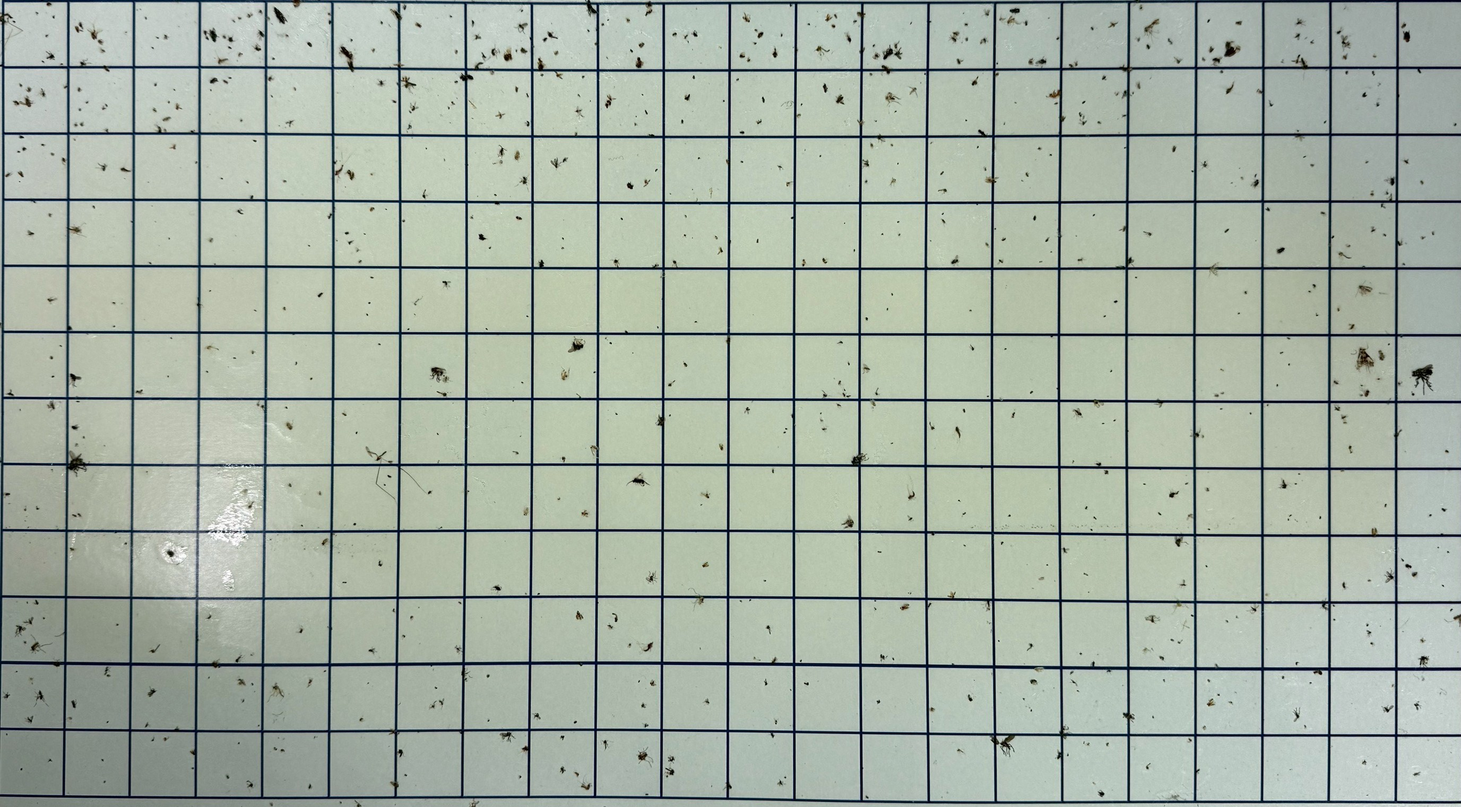fly: (1412, 363, 1436, 388), (66, 450, 88, 474)
test: (990, 731, 1018, 758), (1355, 346, 1376, 373), (1224, 40, 1242, 59), (272, 5, 288, 26), (569, 338, 587, 356), (882, 91, 901, 108), (636, 749, 653, 767), (338, 43, 354, 61), (1173, 533, 1190, 549), (1146, 18, 1160, 37), (367, 451, 389, 463), (1357, 283, 1373, 299), (269, 682, 286, 697), (331, 162, 346, 178), (852, 452, 868, 467), (1382, 569, 1397, 585), (29, 641, 47, 654), (640, 640, 656, 654), (70, 371, 82, 389), (630, 476, 649, 487), (584, 2, 597, 18), (1224, 81, 1236, 98), (578, 778, 592, 792), (1207, 262, 1221, 276), (88, 24, 100, 40), (588, 442, 600, 458), (1071, 405, 1083, 421), (1144, 613, 1160, 625), (67, 224, 84, 235), (431, 365, 442, 382), (1339, 35, 1350, 52), (401, 76, 415, 89), (500, 730, 514, 743), (604, 94, 617, 108), (1045, 90, 1063, 100), (1294, 131, 1306, 146), (208, 26, 219, 42), (458, 72, 474, 83), (841, 516, 854, 529), (391, 6, 403, 20), (35, 690, 47, 704), (646, 570, 658, 584), (654, 414, 666, 428), (1118, 64, 1133, 75), (204, 342, 220, 352), (1337, 250, 1353, 260), (22, 95, 34, 108), (560, 369, 572, 382), (546, 28, 558, 41), (695, 594, 706, 608), (1060, 723, 1069, 740), (47, 396, 57, 411), (984, 175, 999, 185), (1122, 711, 1137, 721), (1292, 709, 1302, 724), (1248, 602, 1260, 614), (906, 488, 917, 501), (503, 49, 513, 63), (514, 22, 528, 32), (900, 603, 914, 613), (1191, 430, 1205, 440), (1402, 31, 1412, 45), (814, 45, 829, 54), (96, 162, 107, 174), (211, 659, 222, 671), (664, 765, 676, 776), (548, 158, 560, 169), (907, 86, 918, 98), (875, 133, 887, 144), (976, 127, 987, 139), (1168, 489, 1179, 501), (1206, 697, 1218, 708), (1318, 599, 1330, 610), (573, 107, 583, 120), (460, 667, 469, 681), (498, 147, 507, 161), (519, 43, 528, 57), (1394, 427, 1403, 441), (427, 699, 438, 710), (979, 36, 990, 47), (147, 684, 155, 699), (245, 778, 255, 790), (388, 779, 400, 789), (1279, 477, 1289, 489), (602, 739, 611, 752), (1381, 704, 1394, 713), (38, 87, 46, 101), (538, 56, 546, 70), (884, 45, 892, 59), (151, 645, 161, 656), (552, 70, 563, 80), (894, 50, 905, 60), (1120, 89, 1130, 100), (1092, 397, 1102, 408), (1412, 768, 1423, 778), (120, 167, 132, 176), (24, 616, 36, 625), (532, 712, 544, 721), (665, 754, 677, 763), (1251, 177, 1260, 189), (348, 165, 355, 180), (216, 57, 229, 65), (17, 624, 25, 637), (945, 591, 958, 599), (257, 28, 267, 38), (574, 609, 584, 619), (776, 777, 786, 787), (881, 64, 891, 74), (948, 34, 958, 44), (1312, 667, 1322, 677), (43, 51, 54, 60), (410, 102, 419, 113), (320, 538, 331, 547), (724, 779, 733, 790), (971, 75, 980, 86), (1386, 175, 1395, 186), (1292, 53, 1301, 64), (435, 390, 449, 397), (985, 598, 992, 612), (771, 48, 779, 60), (1027, 641, 1035, 653), (1009, 7, 1021, 15), (1140, 647, 1152, 655), (1452, 614, 1460, 626), (1378, 349, 1386, 361), (523, 505, 530, 518), (286, 118, 296, 127), (376, 558, 385, 568), (306, 677, 315, 687), (387, 726, 396, 736), (520, 746, 530, 755), (835, 96, 845, 105), (412, 296, 421, 306), (857, 46, 866, 56), (237, 678, 248, 686), (492, 584, 503, 592), (520, 175, 528, 186), (670, 258, 678, 269), (496, 110, 507, 118), (635, 57, 643, 68), (862, 363, 870, 374), (966, 693, 974, 704), (1031, 676, 1039, 687), (1007, 17, 1018, 25), (1201, 160, 1209, 171), (1126, 257, 1134, 268), (1275, 246, 1286, 254), (1174, 599, 1185, 607), (1403, 562, 1414, 570), (1394, 238, 1405, 246), (156, 123, 163, 135), (348, 61, 355, 73), (105, 667, 112, 679), (397, 747, 404, 759), (5, 171, 14, 180), (266, 74, 275, 83), (27, 716, 36, 725), (667, 379, 676, 388), (643, 177, 652, 186), (820, 84, 829, 93), (824, 14, 833, 23), (868, 399, 877, 408), (950, 257, 959, 266), (1026, 57, 1035, 66), (1340, 582, 1349, 591), (1362, 389, 1371, 398), (2, 691, 10, 701), (580, 509, 588, 519), (927, 421, 935, 431), (1036, 57, 1046, 65), (1173, 57, 1183, 65), (1156, 399, 1164, 409), (752, 655, 762, 663), (46, 296, 57, 303), (421, 188, 428, 199), (514, 150, 521, 161), (718, 244, 725, 255), (1213, 57, 1224, 64), (1267, 98, 1274, 109), (1055, 748, 1062, 759), (1294, 18, 1305, 25), (957, 424, 962, 439), (18, 171, 26, 180), (253, 43, 262, 51), (245, 11, 254, 19), (210, 76, 219, 84), (3, 490, 12, 498), (165, 550, 174, 558), (235, 654, 243, 663), (437, 698, 446, 706), (442, 280, 450, 289), (477, 234, 486, 242), (626, 180, 634, 189), (742, 13, 751, 21), (757, 31, 766, 39), (926, 601, 934, 610), (982, 9, 991, 17), (1141, 232, 1153, 238), (1186, 512, 1195, 520), (1178, 581, 1187, 589), (1410, 570, 1419, 578), (1369, 226, 1378, 234), (1360, 91, 1368, 100), (354, 799, 363, 807), (1300, 58, 1308, 67), (51, 660, 61, 667), (224, 773, 234, 780), (472, 62, 482, 69), (1421, 656, 1428, 666), (958, 747, 964, 758), (236, 208, 244, 216), (228, 35, 236, 43), (340, 410, 348, 418), (377, 78, 385, 86), (537, 259, 545, 267), (856, 119, 864, 127), (1035, 666, 1043, 674), (575, 392, 583, 400), (170, 143, 179, 150), (250, 194, 257, 203), (71, 423, 78, 432), (173, 727, 182, 734), (454, 646, 463, 653), (604, 623, 613, 630), (704, 697, 711, 706), (770, 731, 777, 740), (701, 492, 710, 499), (725, 334, 732, 343), (739, 128, 746, 137), (513, 84, 520, 93), (938, 188, 947, 195), (999, 16, 1008, 23), (1103, 468, 1110, 477), (1159, 654, 1166, 663), (162, 116, 172, 122), (196, 298, 202, 308), (203, 29, 208, 41), (613, 612, 619, 622), (766, 625, 771, 637), (612, 259, 622, 265), (473, 33, 483, 39), (846, 34, 852, 44), (1044, 234, 1050, 244), (1414, 700, 1420, 710), (1347, 444, 1353, 454), (174, 103, 182, 110), (286, 422, 293, 430), (247, 501, 254, 509), (205, 613, 212, 621), (368, 648, 376, 655), (642, 722, 650, 729), (490, 48, 498, 55), (682, 94, 690, 101), (857, 11, 865, 18), (872, 52, 880, 59), (952, 30, 959, 38), (1207, 46, 1215, 53), (1170, 146, 1177, 154), (1095, 460, 1103, 467), (1061, 546, 1068, 554), (1069, 679, 1077, 686), (1371, 528, 1378, 536), (1404, 158, 1411, 166), (1341, 54, 1349, 61), (1400, 21, 1407, 29), (406, 123, 413, 131), (893, 41, 901, 48), (646, 133, 657, 138), (298, 627, 304, 636), (34, 599, 40, 608), (786, 179, 792, 188), (1388, 193, 1394, 202), (71, 699, 76, 709), (1068, 61, 1073, 71), (1234, 20, 1244, 25), (74, 26, 81, 33), (46, 210, 53, 217), (386, 473, 393, 480), (771, 656, 778, 663), (562, 156, 569, 163), (639, 41, 646, 48), (745, 406, 752, 413), (845, 393, 852, 400), (1223, 227, 1230, 234), (1091, 662, 1098, 669), (1349, 324, 1356, 331), (1321, 119, 1328, 126), (221, 34, 228, 41), (78, 21, 84, 29), (99, 47, 107, 53), (102, 66, 110, 72), (101, 104, 109, 110), (72, 122, 78, 130), (61, 156, 67, 164), (27, 231, 35, 237), (258, 8, 264, 16), (136, 389, 144, 395), (444, 375, 450, 383), (391, 98, 397, 106), (359, 715, 365, 723), (561, 766, 567, 774), (572, 770, 580, 776), (640, 702, 646, 710), (650, 680, 656, 688), (803, 679, 809, 687), (720, 443, 726, 451), (540, 36, 548, 42), (760, 94, 766, 102), (875, 387, 881, 395), (1108, 22, 1116, 28), (1079, 120, 1087, 126), (1257, 88, 1263, 96), (1120, 226, 1128, 232), (1068, 668, 1076, 674), (1195, 767, 1201, 775), (1335, 403, 1341, 411), (1332, 381, 1340, 387), (67, 324, 73, 332), (161, 737, 170, 742), (511, 451, 520, 456), (644, 11, 653, 16), (1136, 81, 1141, 90), (1145, 764, 1154, 769), (802, 257, 806, 268), (14, 100, 20, 107), (35, 9, 41, 16), (76, 86, 82, 93), (50, 151, 57, 157), (222, 78, 228, 85), (237, 50, 244, 56), (237, 14, 243, 21), (50, 355, 56, 362), (318, 291, 324, 298), (327, 212, 333, 219), (143, 721, 150, 727), (703, 562, 709, 569), (551, 49, 558, 55), (572, 719, 579, 725), (833, 12, 839, 19), (679, 118, 685, 125), (1023, 20, 1029, 27), (1024, 172, 1030, 179), (1090, 25, 1096, 32), (1311, 283, 1318, 289), (1366, 629, 1372, 636), (1371, 641, 1377, 648), (1227, 699, 1233, 706), (1336, 306, 1342, 313), (1378, 202, 1385, 208), (1295, 33, 1302, 39), (1371, 70, 1378, 76), (869, 142, 875, 149), (281, 177, 288, 183), (494, 200, 501, 206), (573, 131, 580, 137), (779, 31, 785, 38), (437, 525, 444, 531), (255, 722, 262, 728), (269, 800, 275, 807), (1213, 662, 1219, 669), (1400, 556, 1406, 563), (1396, 381, 1403, 387), (795, 112, 802, 118), (62, 83, 67, 91), (80, 61, 90, 65), (163, 33, 168, 41), (209, 236, 214, 244), (7, 391, 15, 396), (560, 733, 565, 741), (515, 216, 523, 221), (652, 263, 660, 268), (822, 257, 827, 265), (837, 340, 845, 345), (930, 706, 935, 714), (957, 58, 962, 66), (1169, 37, 1173, 47), (1105, 668, 1113, 673), (1099, 789, 1104, 797), (1442, 506, 1447, 514), (1340, 414, 1348, 419), (1371, 54, 1379, 59), (1081, 572, 1089, 577), (644, 108, 649, 116), (190, 129, 196, 135), (69, 545, 75, 551), (416, 22, 422, 28), (455, 47, 459, 56), (356, 247, 362, 253), (287, 482, 293, 488), (307, 782, 313, 788), (647, 4, 653, 10), (626, 16, 632, 22), (777, 163, 783, 169), (740, 53, 746, 59), (770, 467, 776, 473), (1001, 236, 1007, 242), (1207, 16, 1211, 25), (1265, 205, 1271, 211), (1309, 162, 1315, 168), (1093, 515, 1099, 521), (1049, 333, 1055, 339), (560, 235, 566, 241), (193, 160, 199, 166), (539, 72, 545, 78), (451, 100, 457, 106), (633, 121, 639, 127), (691, 74, 697, 80), (789, 2, 795, 8), (130, 219, 136, 225), (84, 100, 90, 106), (81, 434, 87, 440), (457, 600, 463, 606), (100, 757, 106, 763), (1150, 714, 1156, 720), (1364, 622, 1370, 628), (950, 662, 956, 668), (1386, 342, 1392, 348), (1219, 367, 1225, 373), (1376, 102, 1382, 108), (284, 33, 290, 39), (26, 86, 33, 91), (98, 39, 103, 46), (18, 135, 25, 140), (22, 146, 27, 153), (72, 513, 77, 520), (77, 511, 82, 518), (307, 43, 314, 48), (294, 2, 301, 7), (369, 207, 376, 212), (344, 229, 349, 236), (347, 239, 354, 244), (628, 641, 633, 648), (762, 680, 769, 685), (560, 457, 567, 462), (693, 31, 698, 38), (863, 316, 870, 321), (866, 793, 871, 800), (880, 655, 887, 660), (1032, 213, 1037, 220), (1077, 257, 1084, 262), (1319, 211, 1326, 216), (1244, 291, 1249, 298), (1337, 29, 1342, 36), (755, 237, 760, 244), (226, 75, 233, 80), (654, 167, 659, 174), (579, 661, 584, 668), (1162, 677, 1167, 684), (1383, 502, 1388, 509), (1449, 607, 1454, 614), (1002, 120, 1007, 127), (32, 201, 40, 205), (189, 750, 197, 754), (836, 381, 844, 385), (970, 343, 974, 351), (45, 1, 51, 6), (51, 14, 57, 19), (164, 127, 169, 133), (370, 48, 375, 54), (317, 490, 323, 495), (280, 747, 285, 753), (391, 607, 396, 613), (683, 33, 689, 38), (757, 119, 763, 124), (746, 57, 751, 63), (864, 161, 869, 167), (822, 391, 827, 397), (821, 426, 827, 431), (908, 515, 914, 520), (963, 21, 968, 27), (985, 241, 990, 247), (1060, 116, 1065, 122), (1077, 112, 1083, 117), (1202, 57, 1207, 63), (1187, 737, 1192, 743), (1201, 725, 1206, 731), (1429, 230, 1435, 235), (1278, 351, 1284, 356), (1364, 159, 1370, 164), (1083, 505, 1088, 511), (294, 361, 300, 366), (1000, 540, 1005, 546), (738, 599, 744, 604), (556, 496, 562, 501), (1102, 313, 1107, 319), (896, 219, 901, 225), (1029, 389, 1034, 395), (714, 234, 719, 240), (739, 159, 745, 164), (725, 158, 730, 164), (983, 166, 988, 172), (91, 204, 96, 210), (624, 329, 629, 335), (245, 179, 250, 185), (219, 176, 224, 182), (212, 262, 217, 268), (155, 35, 160, 41), (453, 80, 459, 85), (271, 56, 277, 61), (147, 261, 153, 266), (601, 22, 606, 28), (629, 48, 634, 54), (594, 41, 599, 47), (581, 74, 586, 80), (576, 93, 582, 98), (753, 41, 758, 47), (807, 21, 812, 27), (369, 172, 375, 177), (239, 117, 244, 123), (11, 19, 17, 24), (40, 59, 46, 64), (75, 399, 81, 404), (74, 441, 79, 447), (42, 615, 47, 621), (435, 431, 441, 436), (352, 522, 358, 527), (342, 580, 348, 585), (608, 340, 613, 346), (518, 774, 523, 780), (249, 681, 254, 687), (241, 698, 247, 703), (273, 746, 279, 751), (434, 685, 439, 691), (101, 779, 107, 784), (1105, 741, 1110, 747), (1190, 613, 1196, 618), (1204, 563, 1209, 569), (1086, 741, 1091, 747), (1081, 740, 1087, 745), (1206, 527, 1212, 532), (1367, 578, 1372, 584), (1307, 289, 1312, 295), (1315, 312, 1320, 318), (1100, 421, 1106, 426), (1142, 482, 1148, 487), (1055, 386, 1061, 391), (1053, 101, 1059, 106), (1302, 154, 1307, 160), (873, 118, 878, 124), (922, 71, 928, 76), (868, 72, 874, 77), (227, 45, 233, 50), (1390, 683, 1395, 689), (1240, 175, 1245, 181), (261, 404, 265, 411), (397, 63, 404, 67), (427, 491, 434, 495), (774, 718, 778, 725), (840, 391, 844, 398), (941, 217, 945, 224), (998, 259, 1005, 263), (1139, 5, 1143, 12), (1114, 298, 1118, 305), (1309, 39, 1313, 46), (1417, 69, 1421, 76), (293, 85, 297, 92), (44, 33, 49, 38), (104, 128, 109, 133), (251, 350, 256, 355), (150, 737, 155, 742), (486, 674, 491, 679), (481, 53, 486, 58), (837, 403, 842, 408), (525, 93, 530, 98), (994, 70, 999, 75), (1101, 76, 1106, 81), (1214, 393, 1219, 398), (1169, 638, 1174, 643), (1420, 236, 1425, 241), (1344, 69, 1349, 74), (309, 377, 314, 382), (931, 532, 936, 537), (763, 578, 768, 583), (873, 598, 878, 603), (818, 411, 823, 416), (592, 370, 597, 375), (890, 292, 895, 297), (968, 308, 973, 313), (1091, 213, 1096, 218), (864, 179, 869, 184), (696, 156, 701, 161), (1123, 145, 1128, 150), (1236, 311, 1241, 316), (367, 300, 372, 305), (205, 369, 210, 374), (232, 355, 237, 360), (401, 218, 406, 223), (150, 45, 155, 50), (379, 20, 384, 25), (349, 37, 354, 42), (143, 15, 148, 20), (166, 100, 171, 105), (167, 236, 172, 241), (520, 8, 525, 13), (493, 192, 498, 197), (442, 157, 447, 162), (59, 61, 64, 66), (50, 374, 55, 379), (73, 137, 78, 142), (35, 506, 40, 511), (18, 407, 23, 412), (354, 430, 359, 435), (300, 523, 305, 528), (486, 718, 491, 723), (339, 800, 344, 805), (799, 658, 804, 663), (19, 767, 24, 772), (1206, 678, 1211, 683), (1308, 680, 1313, 685), (1318, 515, 1323, 520), (1446, 549, 1451, 554), (1234, 614, 1239, 619), (1303, 723, 1308, 728), (1275, 383, 1280, 388), (1184, 481, 1189, 486), (1071, 459, 1076, 464), (1221, 391, 1226, 396), (1253, 173, 1258, 178), (1013, 100, 1018, 105), (871, 43, 876, 48), (470, 215, 475, 220), (630, 350, 635, 355), (207, 675, 212, 680), (23, 640, 28, 645), (1020, 178, 1025, 183), (1402, 262, 1407, 267), (1361, 265, 1366, 270), (80, 122, 84, 128), (15, 149, 21, 153), (153, 106, 157, 112), (47, 759, 53, 763), (683, 361, 687, 367), (832, 23, 836, 29), (853, 18, 857, 24), (891, 179, 895, 185), (1011, 411, 1015, 417), (1075, 59, 1078, 67), (1146, 44, 1150, 50), (1420, 638, 1424, 644), (1177, 638, 1181, 644), (1206, 488, 1210, 494), (1420, 180, 1424, 186), (1159, 511, 1163, 517), (847, 361, 851, 367), (684, 214, 688, 220), (693, 320, 699, 324), (252, 139, 258, 143), (484, 327, 490, 331), (252, 308, 258, 312), (270, 93, 274, 99), (172, 87, 176, 93), (327, 11, 331, 17), (586, 28, 590, 34), (753, 28, 759, 32), (209, 87, 213, 93), (560, 246, 566, 250), (536, 591, 542, 595), (105, 720, 111, 724), (5, 731, 9, 737), (891, 656, 895, 662), (1066, 751, 1070, 757), (1281, 674, 1285, 680), (1286, 516, 1290, 522), (1441, 582, 1445, 588), (965, 37, 969, 43), (526, 120, 529, 127), (152, 82, 157, 86), (255, 401, 259, 406), (358, 259, 362, 264), (389, 460, 394, 464), (876, 700, 881, 704), (939, 171, 944, 175), (962, 408, 966, 413), (876, 550, 881, 554), (1136, 37, 1140, 42), (1444, 448, 1448, 453), (284, 405, 288, 410), (370, 275, 374, 280), (1007, 513, 1011, 518), (957, 498, 961, 503), (1046, 562, 1050, 567), (699, 503, 704, 507), (874, 606, 878, 611), (615, 411, 619, 416), (784, 427, 789, 431), (897, 233, 902, 237), (880, 232, 885, 236), (886, 307, 890, 312), (790, 215, 794, 220), (1112, 418, 1117, 422), (976, 145, 980, 150), (941, 212, 945, 217), (993, 226, 997, 231), (1049, 153, 1053, 158), (1134, 275, 1138, 280), (620, 216, 625, 220), (487, 246, 492, 250), (112, 301, 117, 305), (112, 324, 116, 329), (307, 243, 311, 248), (362, 232, 367, 236), (406, 327, 411, 331), (447, 105, 451, 110), (424, 146, 429, 150), (58, 344, 63, 348), (123, 30, 127, 35), (50, 467, 54, 472), (116, 622, 120, 627), (165, 374, 170, 378), (383, 482, 387, 487), (520, 380, 524, 385), (655, 325, 660, 329), (413, 312, 418, 316), (637, 679, 641, 684), (644, 792, 649, 796), (323, 668, 327, 673), (237, 741, 241, 746), (404, 772, 408, 777), (191, 766, 195, 771), (1225, 618, 1229, 623), (1217, 692, 1221, 697), (1029, 708, 1033, 713), (997, 638, 1001, 643), (1288, 513, 1293, 517), (1428, 512, 1432, 517), (1332, 618, 1337, 622), (1436, 545, 1440, 550), (1287, 362, 1291, 367), (1411, 392, 1415, 397), (1249, 411, 1253, 416), (1340, 468, 1345, 472), (1454, 122, 1458, 127), (1383, 233, 1387, 238), (893, 110, 898, 114), (995, 61, 999, 66), (909, 21, 913, 26), (927, 20, 932, 24), (929, 141, 934, 145), (686, 39, 690, 44), (231, 19, 236, 23), (668, 413, 672, 418), (511, 398, 515, 403), (467, 489, 471, 494), (366, 681, 371, 685), (77, 108, 83, 111), (40, 143, 46, 146), (282, 306, 285, 312), (472, 20, 475, 26), (1219, 71, 1225, 74), (1371, 189, 1374, 195), (1331, 235, 1334, 241), (722, 98, 725, 104), (18, 83, 22, 87), (411, 615, 415, 619), (1055, 36, 1059, 40), (1081, 100, 1085, 104), (1362, 761, 1366, 765), (378, 342, 382, 346), (365, 312, 369, 316), (748, 598, 752, 602), (890, 441, 894, 445), (852, 248, 856, 252), (1003, 346, 1007, 350), (683, 233, 687, 237), (1109, 369, 1113, 373), (964, 118, 968, 122), (890, 143, 894, 147), (818, 154, 822, 158), (800, 102, 804, 106), (897, 162, 901, 166), (1191, 169, 1195, 173), (170, 336, 174, 340), (525, 314, 529, 318), (208, 288, 212, 292), (449, 14, 453, 18), (606, 18, 610, 22), (641, 93, 645, 97), (736, 77, 740, 81), (124, 541, 128, 545), (1079, 651, 1083, 655), (1022, 697, 1026, 701), (1076, 689, 1080, 693), (1332, 604, 1336, 608), (1376, 377, 1380, 381), (1219, 407, 1223, 411), (1294, 482, 1298, 486), (789, 688, 793, 692), (1297, 472, 1301, 476), (1049, 250, 1053, 254), (605, 56, 609, 60), (588, 99, 592, 103), (15, 670, 19, 674), (1131, 91, 1135, 95), (404, 4, 407, 9), (401, 635, 406, 638), (963, 511, 966, 516), (1345, 244, 1350, 247), (962, 544, 967, 547), (783, 430, 786, 435), (24, 507, 27, 512), (672, 33, 676, 36), (1038, 146, 1041, 150), (1122, 114, 1126, 117), (1089, 528, 1093, 531), (26, 601, 29, 605), (1265, 404, 1269, 407), (1360, 384, 1364, 387), (330, 19, 332, 24), (1097, 121, 1102, 123), (1295, 661, 1298, 664), (986, 394, 989, 397), (929, 239, 932, 242), (1287, 337, 1291, 339)
